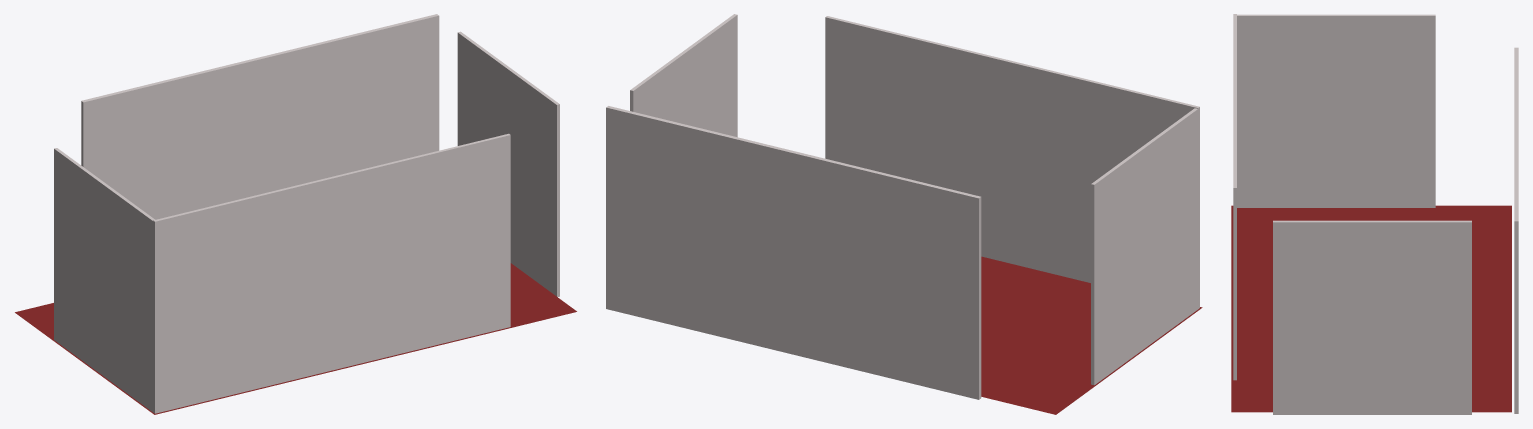
File: Room.fbx
3 views of the same model, side by side, from view 1: azimuth 30°, elevation 25°; view 2: azimuth 150°, elevation 25°; view 3: azimuth 270°, elevation 25° (orthographic). The views are drawn at different scales.
Visible parts, largest first — view 1: pCube1, pCube3, pCube4, pCube7, pPlane1; view 2: pCube3, pCube1, pCube4, pPlane1, pCube7; view 3: pCube7, pCube4, pPlane1, pCube3, pCube1.
Part boxes in pixels (bbox=[...]): pCube1: bbox=[153, 133, 510, 413]; pCube3: bbox=[81, 14, 439, 219]; pCube4: bbox=[54, 148, 155, 412]; pCube7: bbox=[457, 31, 559, 296]; pPlane1: bbox=[15, 263, 576, 414]; pCube3: bbox=[606, 106, 981, 399]; pCube1: bbox=[825, 16, 1199, 308]; pCube4: bbox=[1091, 108, 1198, 385]; pPlane1: bbox=[981, 256, 1202, 414]; pCube7: bbox=[630, 14, 737, 137]; pCube7: bbox=[1273, 220, 1471, 414]; pCube4: bbox=[1237, 14, 1435, 207]; pPlane1: bbox=[1231, 205, 1511, 412]; pCube3: bbox=[1514, 47, 1518, 413]; pCube1: bbox=[1233, 14, 1236, 380].
Bounding box in the file's own units: 464 × 201 × 271.
